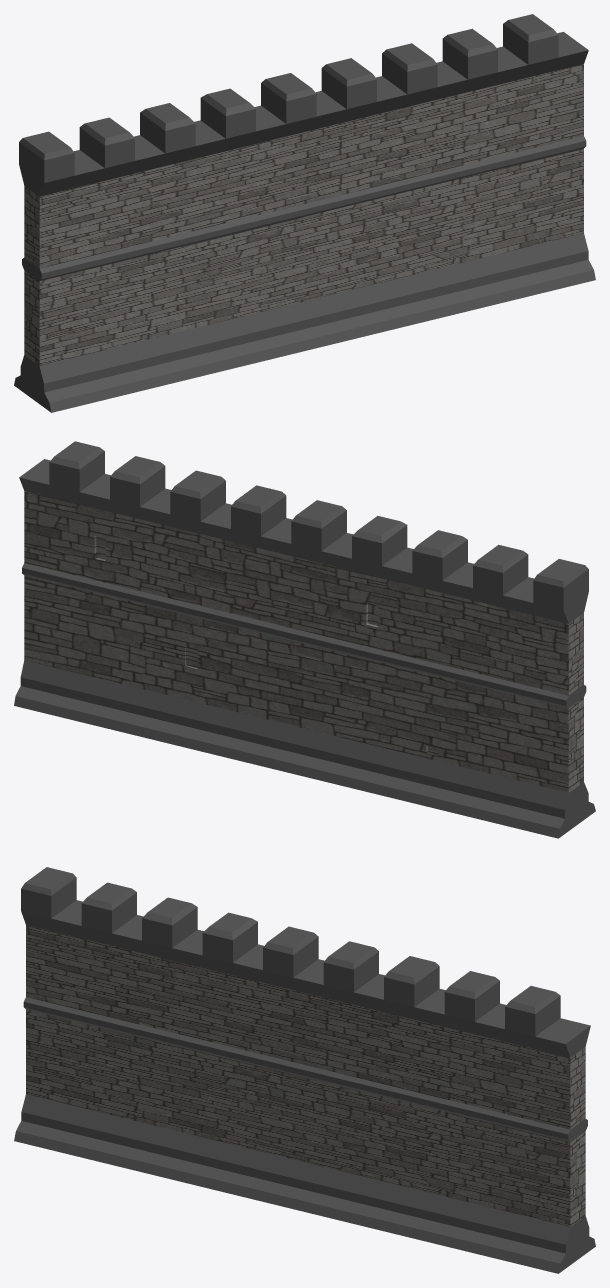
File: castle_wall.fbx
3 views of the same model, one above another, from view 1: azimuth 30°, elevation 25°; view 2: azimuth 150°, elevation 25°; view 3: azimuth 330°, elevation 25° (orthographic).
Visible parts, largest first — view 1: wall; view 2: wall; view 3: wall.
Part boxes in pixels (<box>): wall: <box>14,14,595,412</box>; wall: <box>14,441,595,838</box>; wall: <box>14,867,595,1273</box>.
Bounding box in the file's own units: 36.01 × 15.93 × 4.29.
